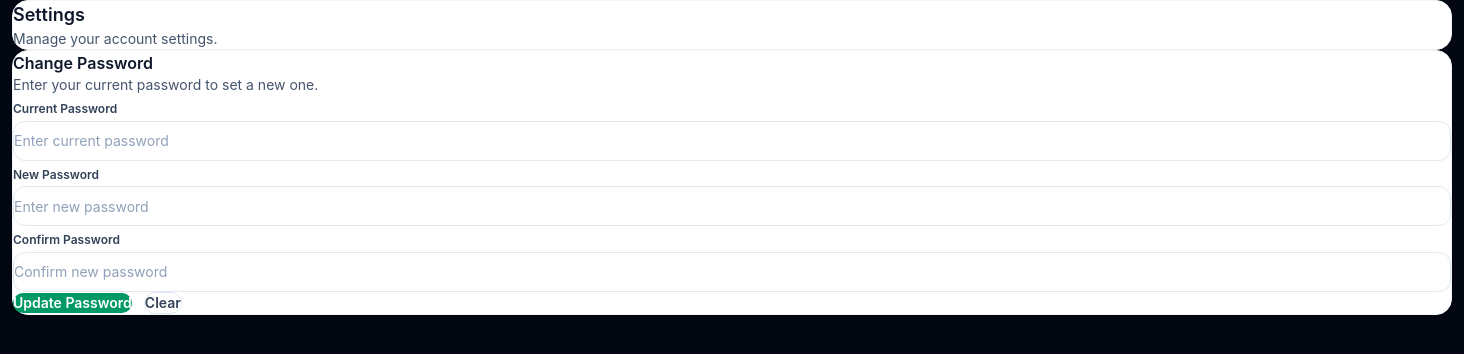
Scenario: SettingsPage › shows api error
Type "oldpass" into the password field labelled "Current Password" at point(732, 141), box [13, 121, 1451, 161]
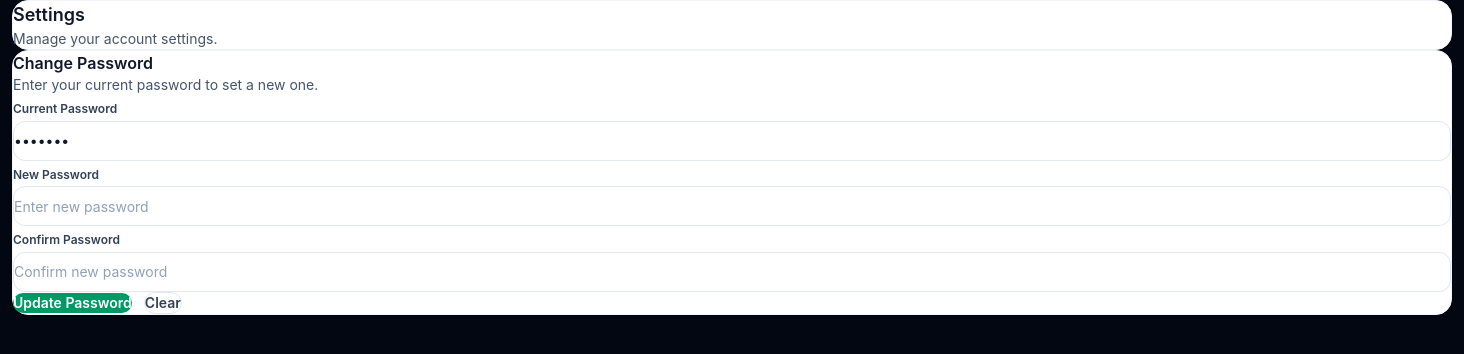
Type "newpass1" into the password field labelled "New Password" at point(732, 206), box [13, 186, 1451, 226]
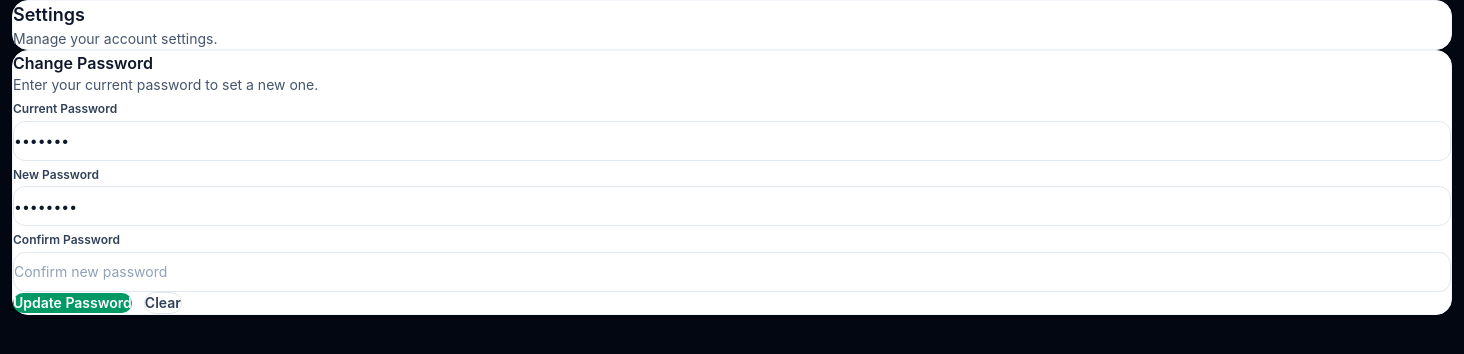
Type "newpass1" into the password field named "Confirm new password" at point(732, 272), box [13, 252, 1451, 292]
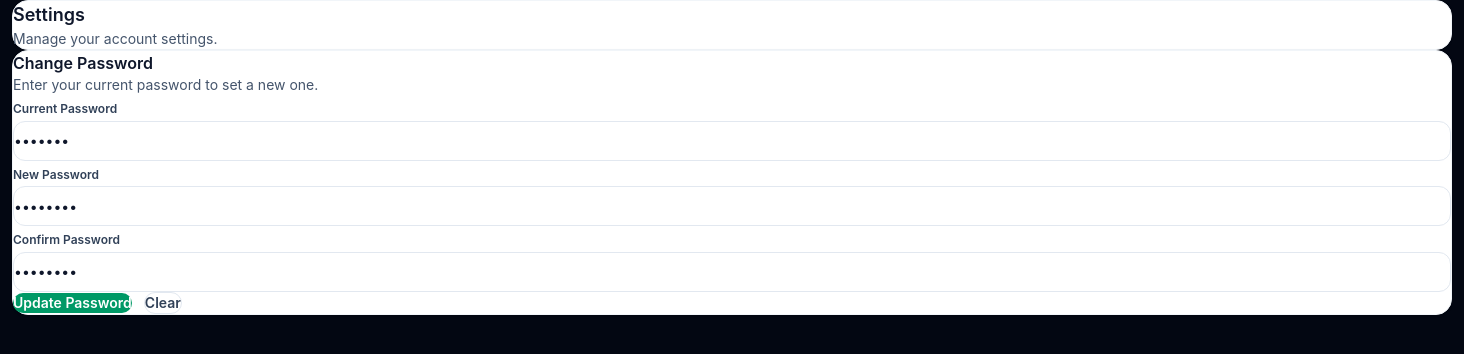
Click the button "Update Password" at point(72, 303), box [13, 293, 132, 313]
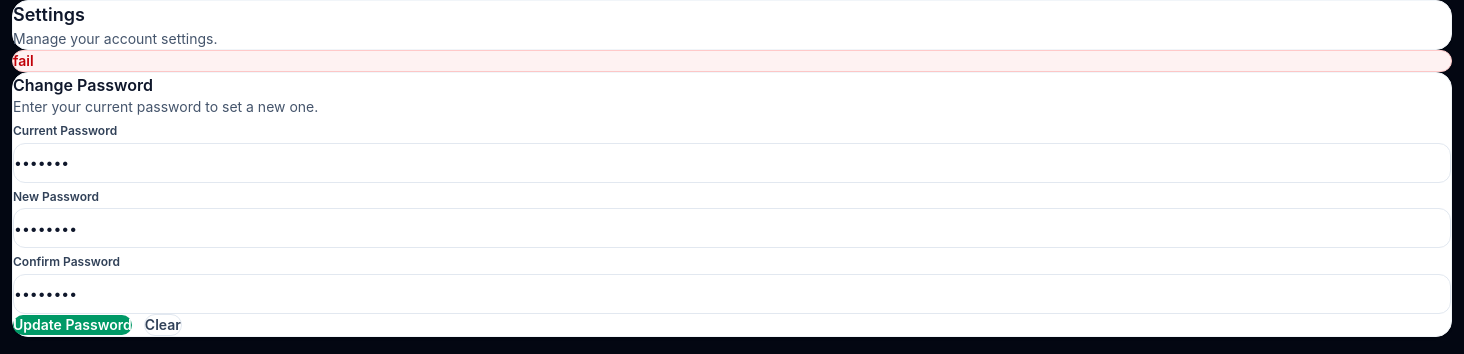
Expected: the text "fail" is shown, [12, 50, 1452, 72]
